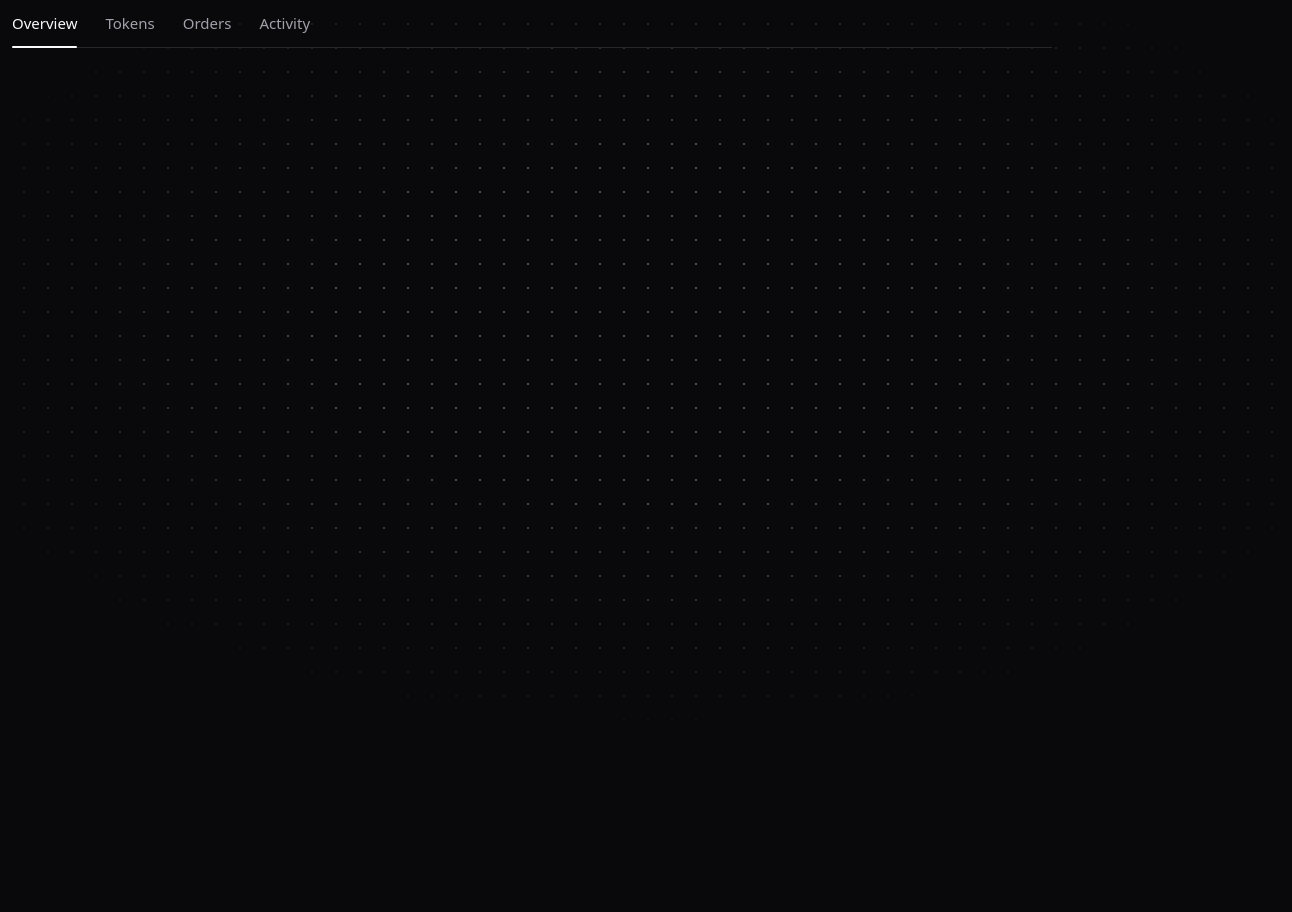
Test: keeps terminal orders in full activity after they leave open orders
Click the tab "Activity": click(285, 29) [259,12,310,46]
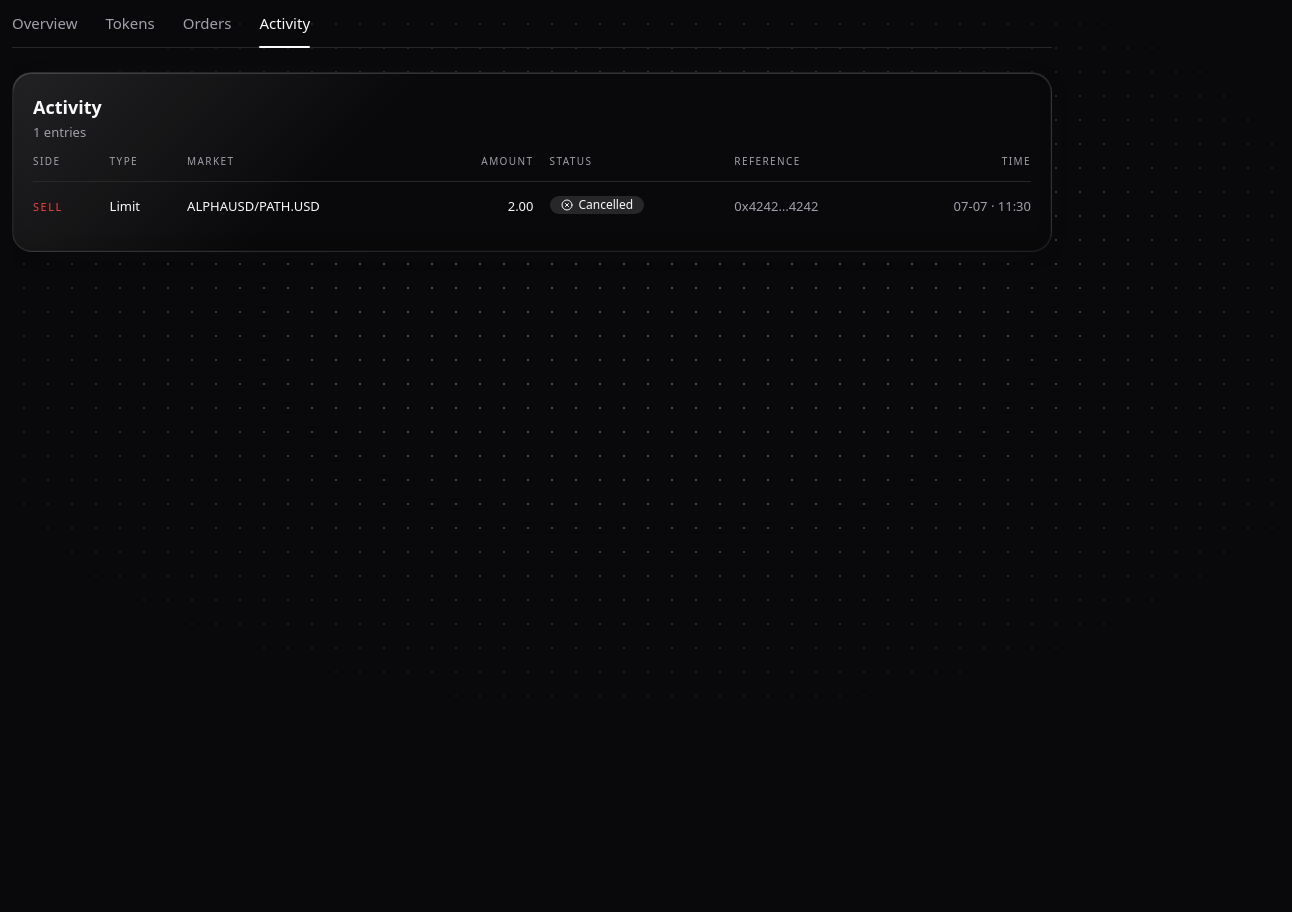
Now the text "ALPHAUSD/PATH.USD" is shown, box [187,196,320,214]
Now the text "Cancelled" is shown, box [578,199,633,211]
Now the text "2.00" is shown, box [436,182,550,230]
